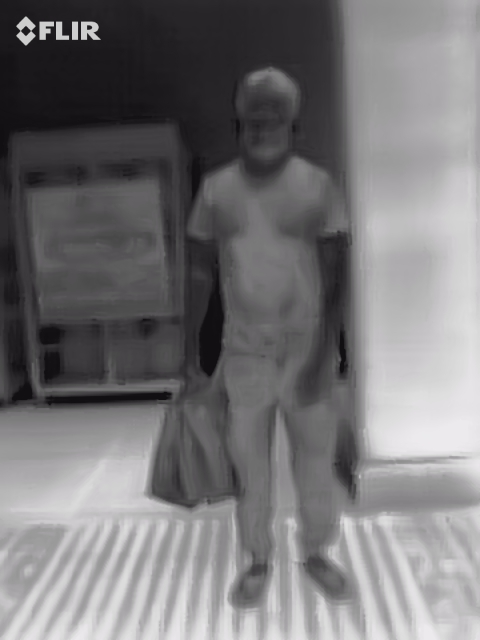head: (234, 66, 301, 162)
